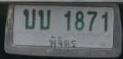txt21: (23, 8, 37, 30), (37, 8, 51, 30)
